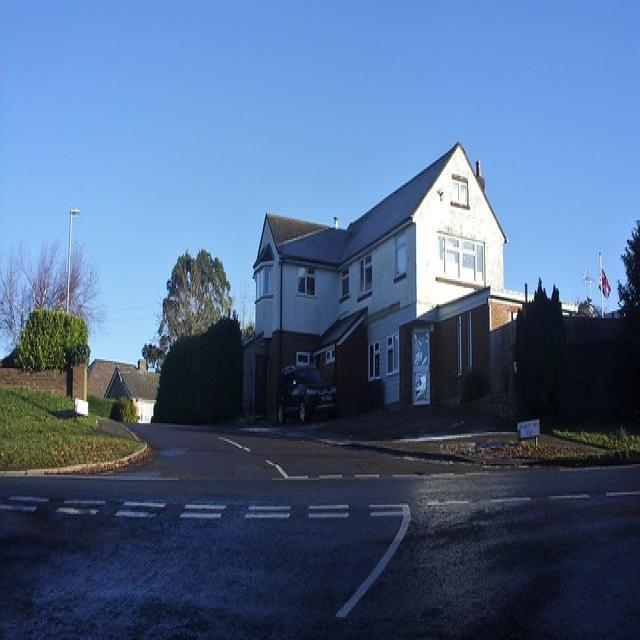building: (252, 143, 508, 431)
